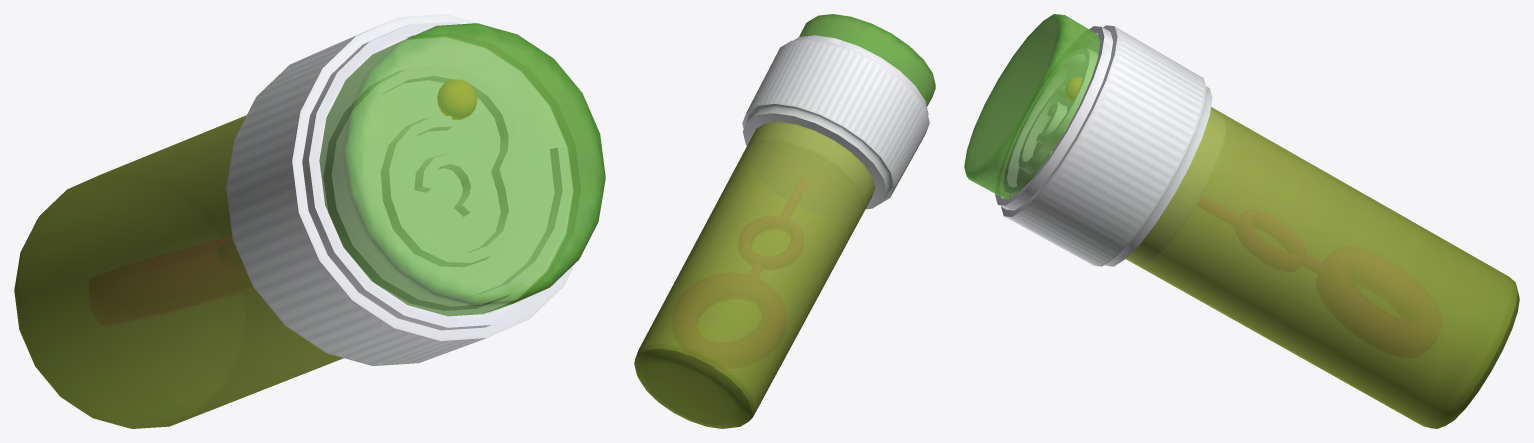
The model's file is GTBubbleWater.obj.
3 renders of one model, left to right at view 1: azimuth 30°, elevation 25°; view 2: azimuth 150°, elevation 25°; view 3: azimuth 270°, elevation 25°, orthographic. The views are drawn at different scales.
Parts seen in each view (by area): view 1: paopaoshui, paopaoshui.002; view 2: paopaoshui, paopaoshui.002; view 3: paopaoshui, paopaoshui.002.
Boxes of the visible parts, left/top/right/bottom form: paopaoshui: left=14, top=14, right=605, bottom=428; paopaoshui.002: left=14, top=116, right=342, bottom=428; paopaoshui: left=634, top=14, right=935, bottom=428; paopaoshui.002: left=634, top=122, right=874, bottom=428; paopaoshui: left=964, top=14, right=1519, bottom=428; paopaoshui.002: left=1126, top=107, right=1519, bottom=428.
Bounding box in the file's own units: 0.5801 × 1.15 × 1.46.
